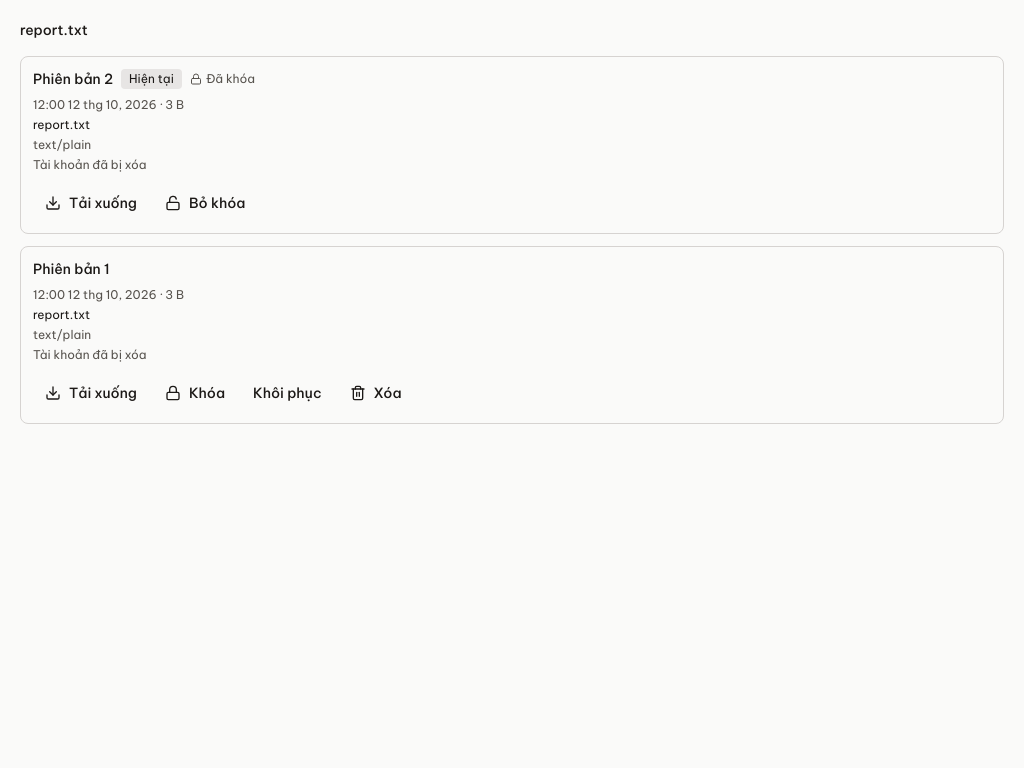
Test case: refreshes current markers after a 409 restore conflict
The image size is (1024, 768).
Click the button with aria-label "Khôi phục phiên bản 1": (287, 393) 241,375 -> 334,411
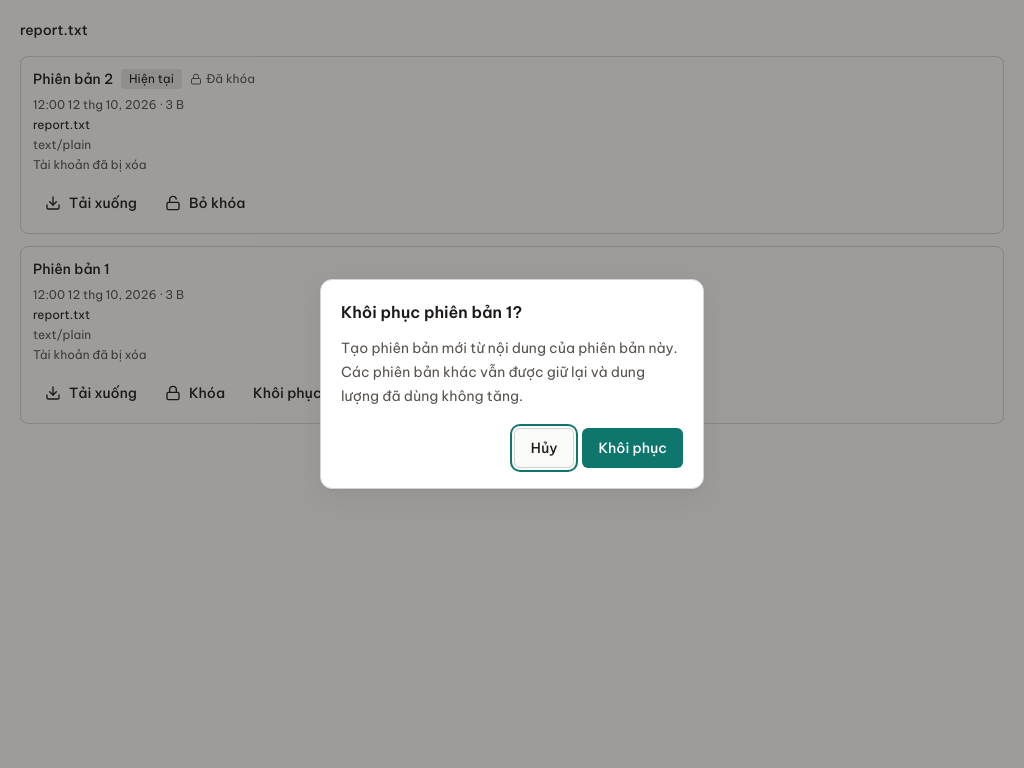
Click the button "Khôi phục": (633, 448) 582,428 -> 683,468
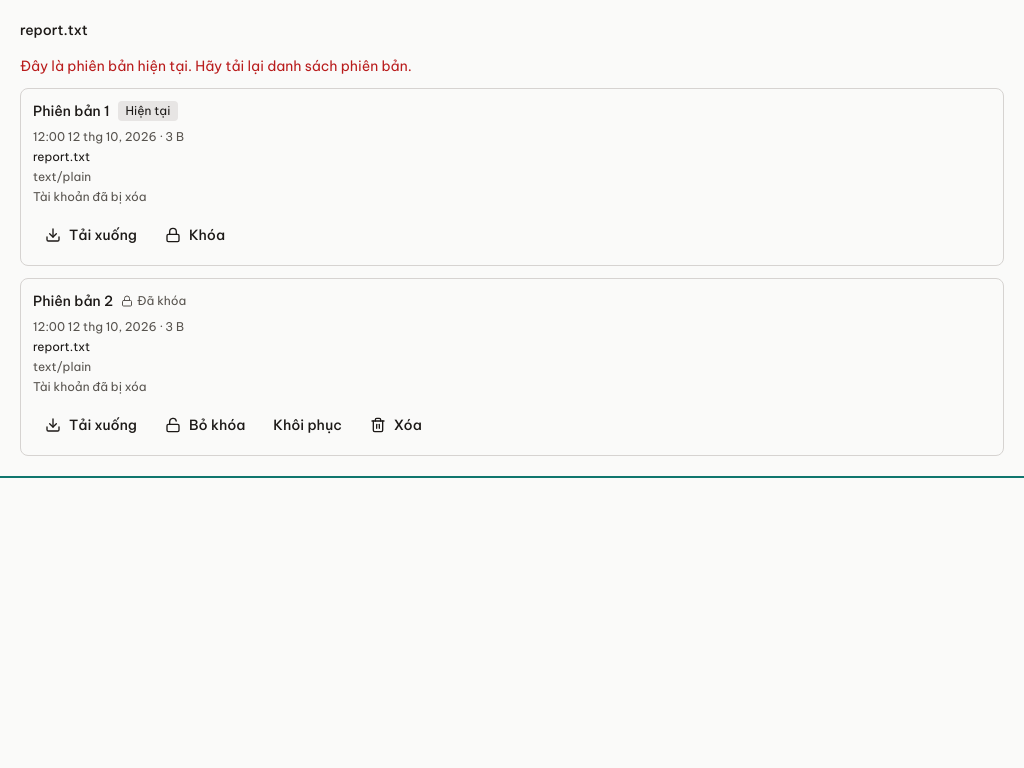
Now the message shows "Đây là phiên bản hiện tại", box 20,57 -> 412,75
Now the heading "Khôi phục phiên bản 1" is gone
